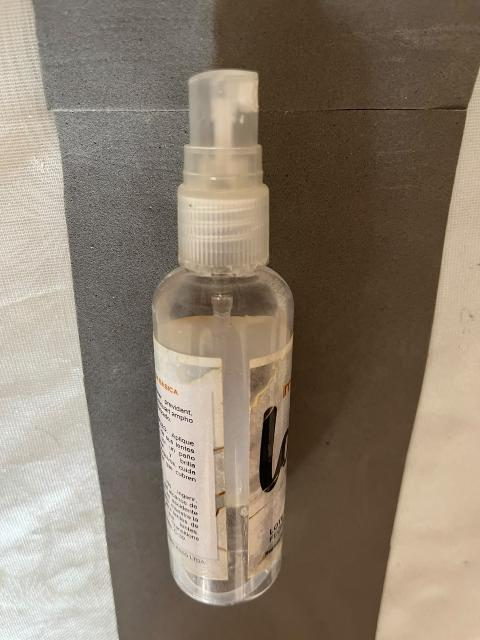PET: (109, 25, 353, 633)
